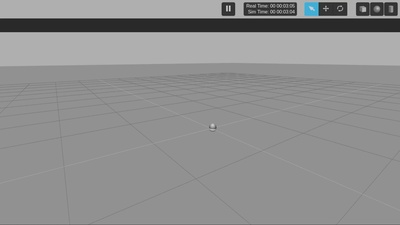mira_robot: (209, 123, 217, 130)
